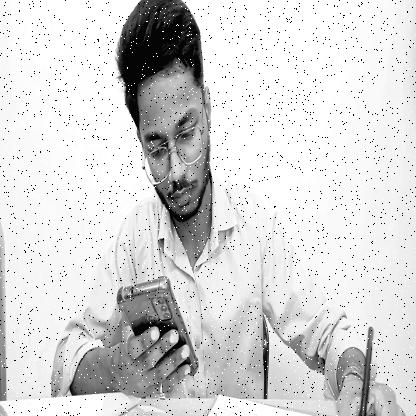Distracted: (114, 0, 215, 230)
